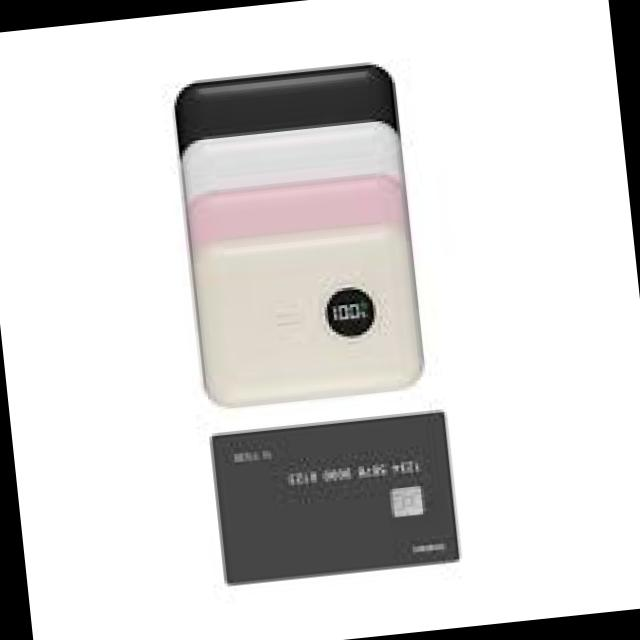power_bank: (186, 222, 424, 414), (180, 167, 408, 250), (164, 64, 398, 144), (176, 116, 398, 194)
